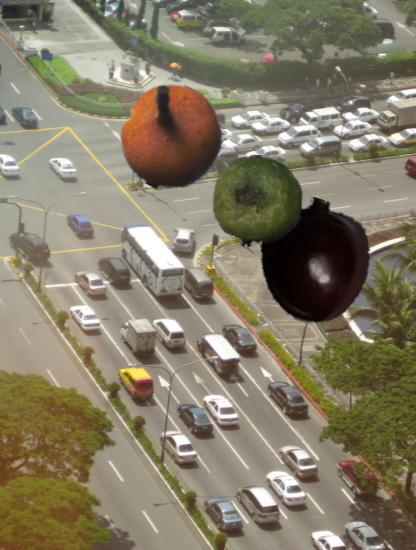Cherry: (252, 200, 375, 323)
Granadilla: (118, 84, 224, 190)
Limes: (212, 155, 305, 248)
